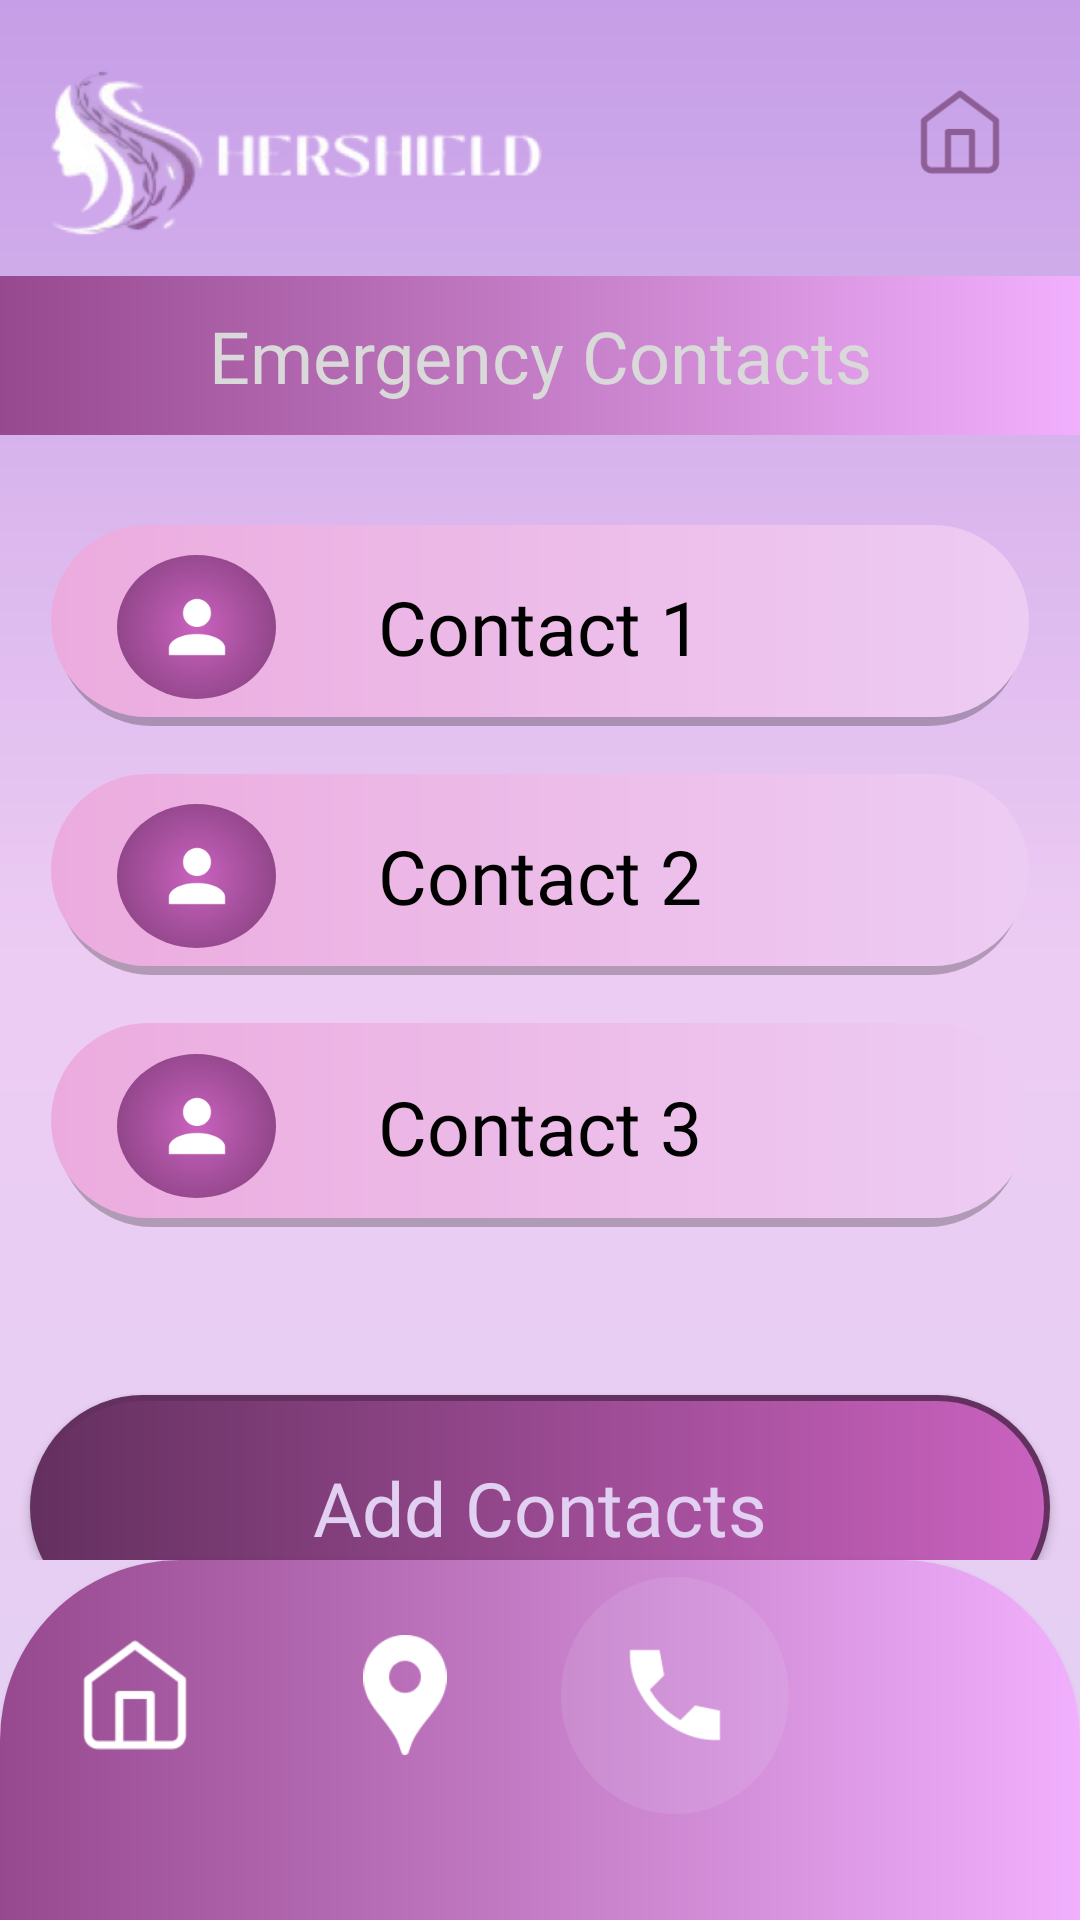

Where icons sit on this 1080w x 1920h app screen, as (x1, y1, x2, y2):
call: (630, 1649, 721, 1741)
home: (921, 90, 999, 174), (0, 1635, 191, 1755)
location pin: (363, 1635, 447, 1755)
person: (117, 555, 276, 699), (117, 804, 276, 948), (117, 1054, 276, 1198)
